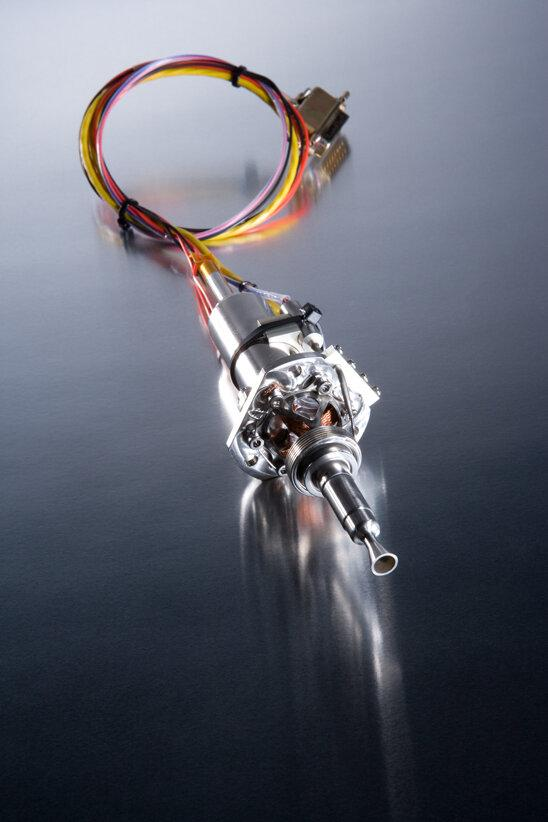thruster: (360, 531, 400, 581)
